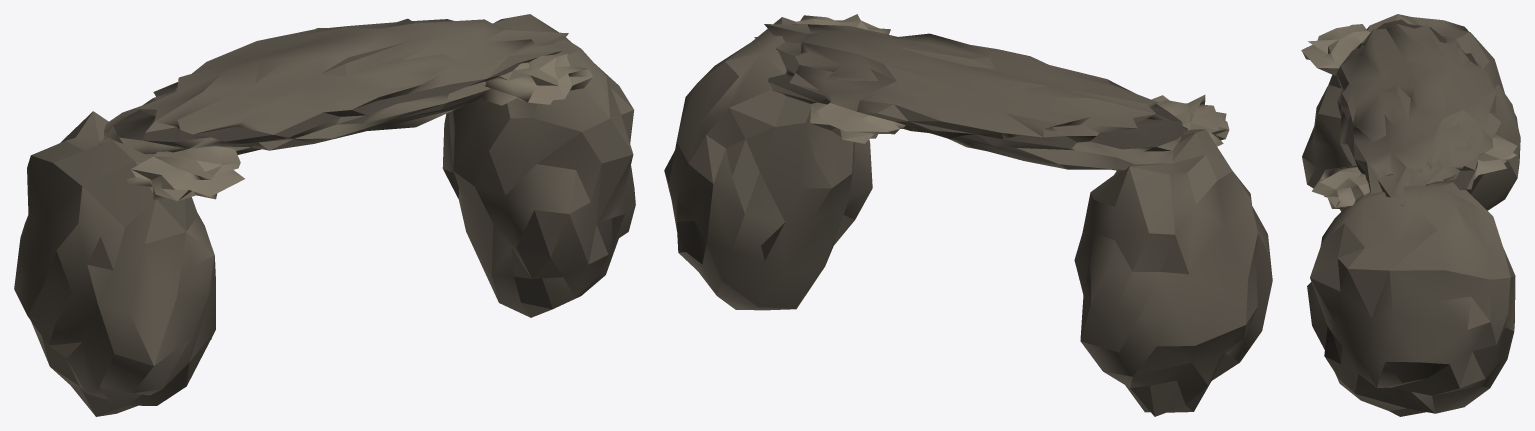
The model's file is rock_bridge_span_lod1.glb.
The picture shows the model from 3 angles, left to right: view 1: azimuth 30°, elevation 25°; view 2: azimuth 150°, elevation 25°; view 3: azimuth 270°, elevation 25°; orthographic projection. The views are drawn at different scales.
Visible parts, largest first — view 1: LOD1_Stone, LOD1_Stone_cut, LOD1_Stone_strata; view 2: LOD1_Stone, LOD1_Stone_strata, LOD1_Stone_cut; view 3: LOD1_Stone, LOD1_Stone_cut, LOD1_Stone_strata.
Part boxes in pixels (bbox=[...]): LOD1_Stone: bbox=[14, 14, 635, 416]; LOD1_Stone_cut: bbox=[126, 54, 592, 201]; LOD1_Stone_strata: bbox=[113, 51, 624, 257]; LOD1_Stone: bbox=[664, 17, 1272, 416]; LOD1_Stone_strata: bbox=[676, 37, 1184, 294]; LOD1_Stone_cut: bbox=[795, 14, 1229, 146]; LOD1_Stone: bbox=[1302, 14, 1520, 416]; LOD1_Stone_cut: bbox=[1301, 24, 1517, 208]; LOD1_Stone_strata: bbox=[1324, 19, 1513, 382].
Bounding box in the file's own units: 5.51 × 2.77 × 2.16.
